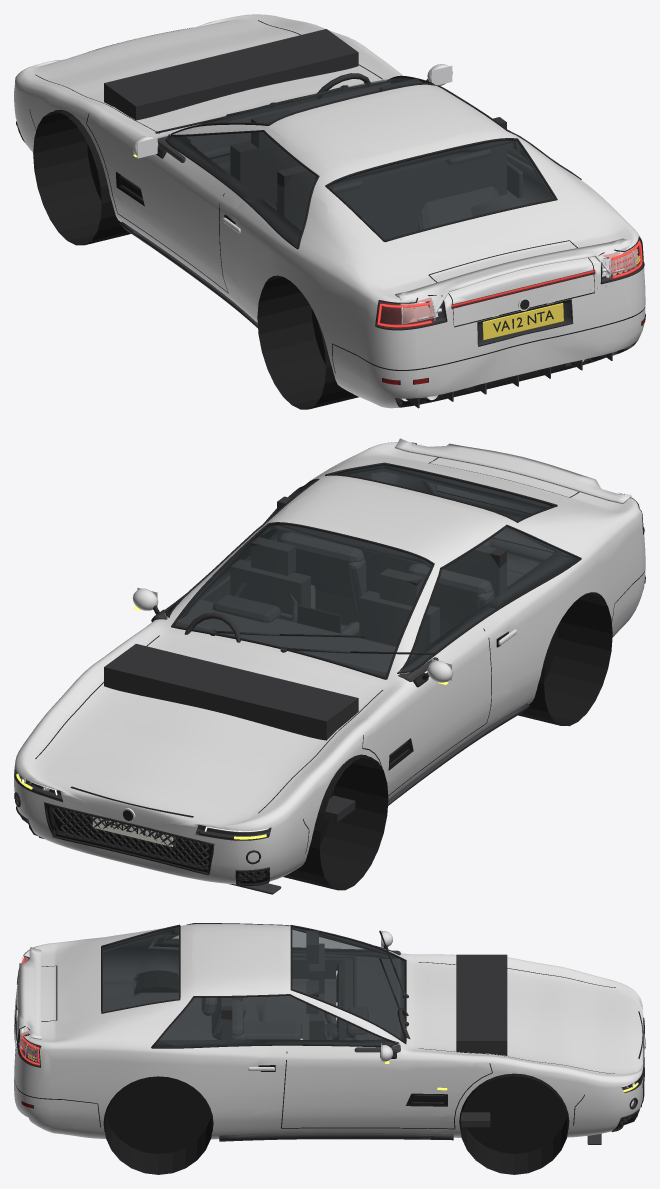
The model's file is vanta.glb.
3 views of the same model, one above another, from view 1: azimuth 30°, elevation 25°; view 2: azimuth 150°, elevation 25°; view 3: azimuth 270°, elevation 25° (orthographic). The views are drawn at different scales.
Visible parts, largest first — view 1: CabinOpening, DoorLeft, DoorRight; view 2: CabinOpening, DoorLeft, DoorRight; view 3: CabinOpening, DoorRight, DoorLeft.
Part boxes in pixels (x1,y1,x2,y2): CabinOpening: [14, 14, 645, 409]; DoorLeft: [99, 113, 262, 300]; DoorRight: [354, 51, 452, 85]; CabinOpening: [14, 438, 645, 894]; DoorLeft: [348, 579, 509, 793]; DoorRight: [104, 548, 250, 659]; CabinOpening: [14, 923, 645, 1174]; DoorRight: [260, 1017, 474, 1127]; DoorLeft: [292, 929, 456, 982].
Bounding box in the file's own units: 2.06 × 1.31 × 4.48.
